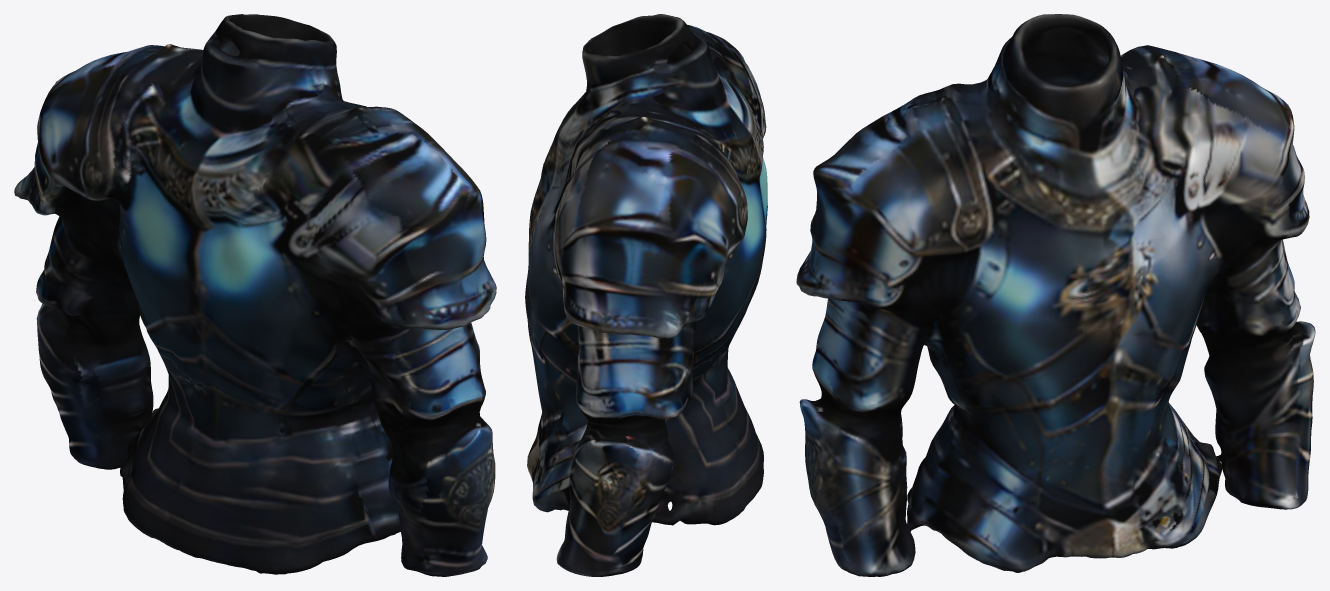
3 views of the same model, side by side, from view 1: azimuth 30°, elevation 25°; view 2: azimuth 150°, elevation 25°; view 3: azimuth 270°, elevation 25° (orthographic). The views are drawn at different scales.
Parts seen in each view (by area): view 1: geometry_0; view 2: geometry_0; view 3: geometry_0.
Part boxes in pixels (<box>): geometry_0: <box>14,14,496,576</box>; geometry_0: <box>525,14,767,576</box>; geometry_0: <box>796,14,1315,576</box>.
Size of the model in its own units: 0.45 by 0.7619 by 0.7243.
1 material, 1 textured.
